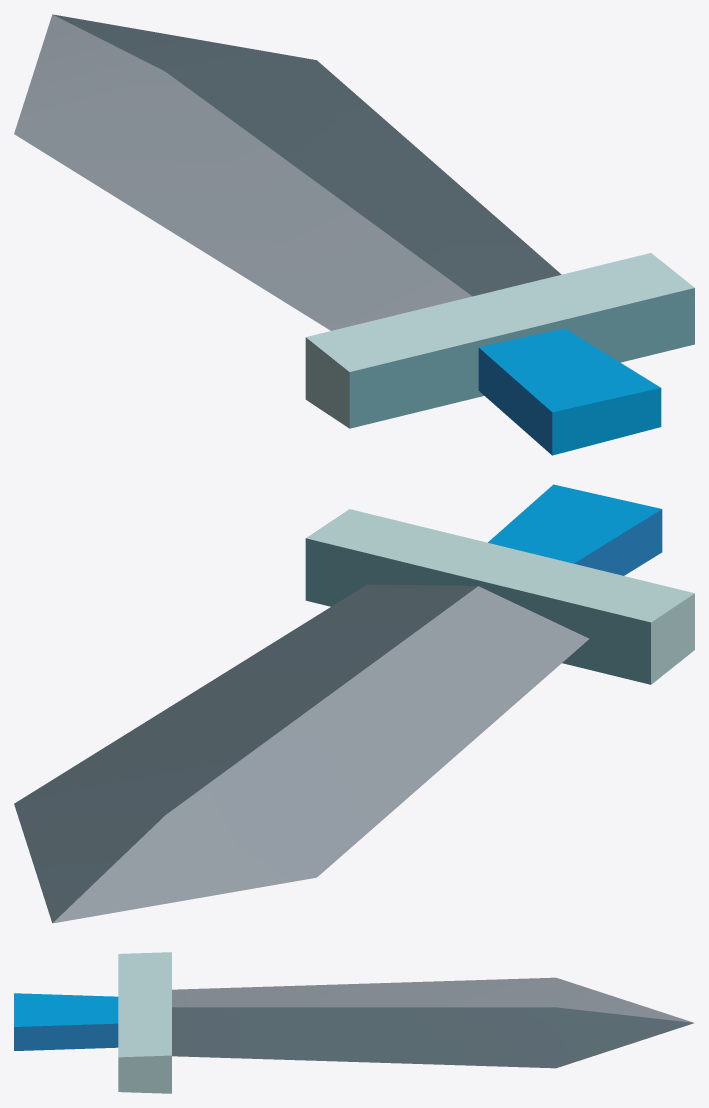
File: Sword.fbx
The picture shows the model from 3 angles, top to bottom: view 1: azimuth 30°, elevation 25°; view 2: azimuth 150°, elevation 25°; view 3: azimuth 270°, elevation 25°; orthographic projection. The views are drawn at different scales.
Parts seen in each view (by area): view 1: Sword; view 2: Sword; view 3: Sword.
Boxes of the visible parts, box(x1,y1,x2,y2) form: Sword: box(14, 14, 694, 455); Sword: box(14, 484, 694, 923); Sword: box(14, 952, 693, 1093).
Bounding box in the file's own units: 126 × 21.74 × 350.
